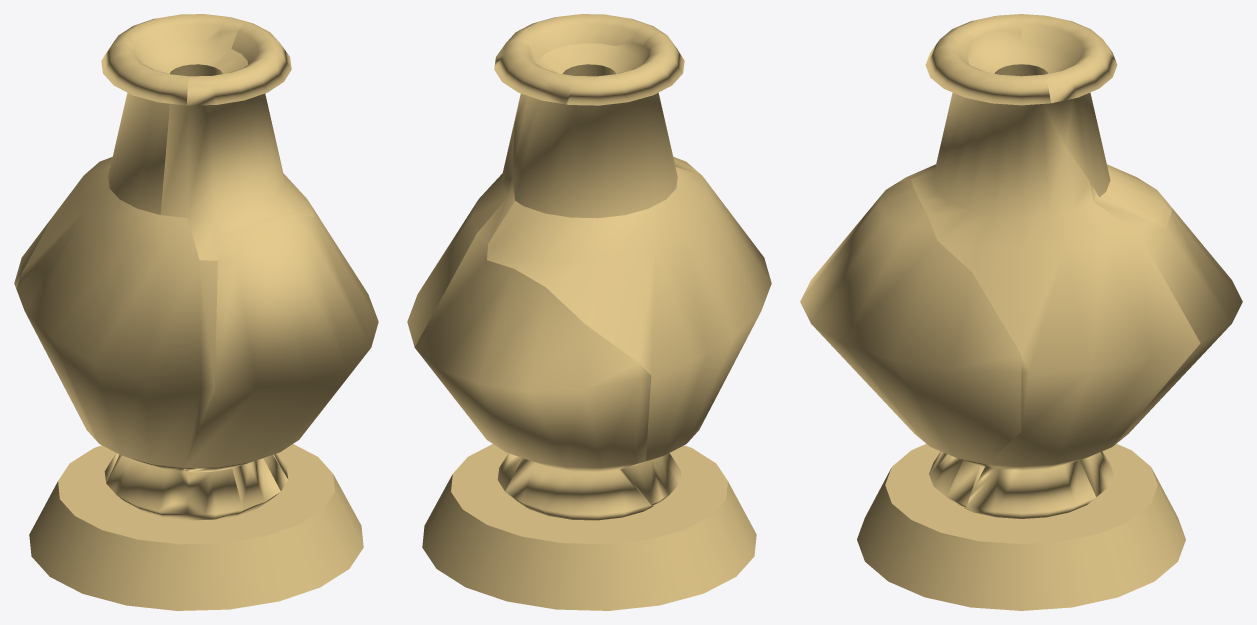
File: Pottery 5_broken.fbx
3 renders of one model, left to right at view 1: azimuth 30°, elevation 25°; view 2: azimuth 150°, elevation 25°; view 3: azimuth 270°, elevation 25°, orthographic.
Visible parts, largest first — view 1: pTorus1.004, pCylinder1, pTorus1.001, pTorus1.002, pTorus1.005, pTorus1.006, pTorus1.003, pTorus1; view 2: pTorus1.003, pTorus1.004, pCylinder1, pTorus1.005, pTorus1.002, pTorus1.006, pTorus1; view 3: pTorus1.002, pTorus1.001, pCylinder1, pTorus1.005, pTorus1.003, pTorus1.004, pTorus1.006.
Boxes of the visible parts, x1=… form: pTorus1.004: x1=16, y1=157, x2=217, y2=471; pCylinder1: x1=29, y1=444, x2=363, y2=610; pTorus1.001: x1=185, y1=214, x2=378, y2=509; pTorus1.002: x1=160, y1=22, x2=319, y2=479; pTorus1.005: x1=101, y1=14, x2=250, y2=214; pTorus1.006: x1=106, y1=454, x2=287, y2=520; pTorus1.003: x1=14, y1=218, x2=119, y2=482; pTorus1: x1=170, y1=64, x2=223, y2=76; pTorus1.003: x1=414, y1=177, x2=653, y2=520; pTorus1.004: x1=487, y1=167, x2=771, y2=468; pCylinder1: x1=422, y1=444, x2=756, y2=610; pTorus1.005: x1=494, y1=32, x2=684, y2=218; pTorus1.002: x1=407, y1=14, x2=701, y2=490; pTorus1.006: x1=622, y1=453, x2=681, y2=505; pTorus1: x1=562, y1=64, x2=615, y2=76; pTorus1.002: x1=896, y1=27, x2=1200, y2=518; pTorus1.001: x1=800, y1=179, x2=1021, y2=496; pCylinder1: x1=857, y1=444, x2=1185, y2=610; pTorus1.005: x1=953, y1=14, x2=1117, y2=197; pTorus1.003: x1=1080, y1=182, x2=1242, y2=496; pTorus1.004: x1=1099, y1=164, x2=1172, y2=228; pTorus1.006: x1=929, y1=451, x2=984, y2=508.
Bounding box in the file's own units: 13315 × 21504 × 17451.
